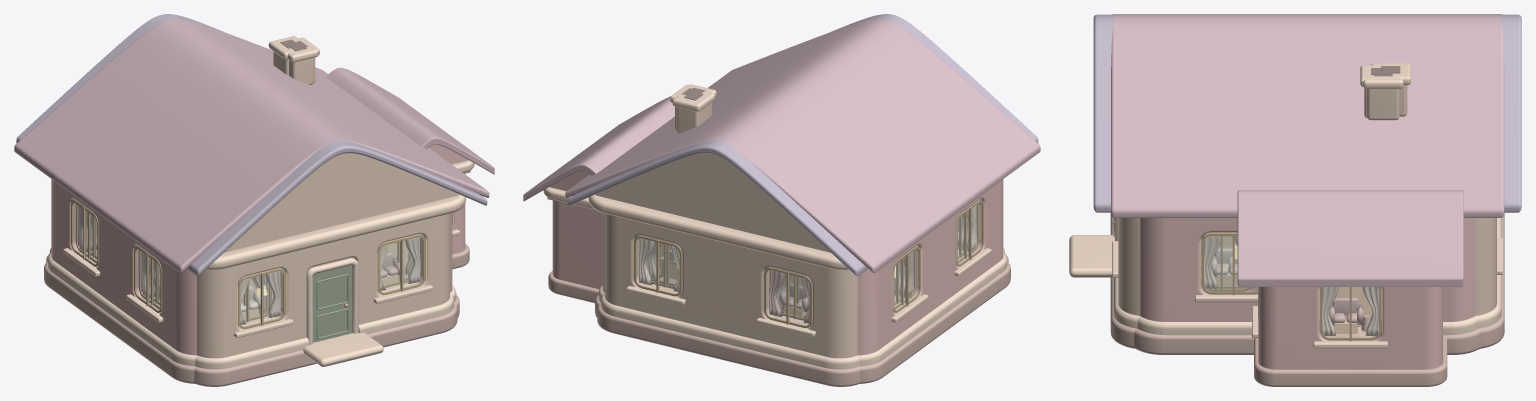
File: small-island-houses-v62.glb
The picture shows the model from 3 angles, left to right: view 1: azimuth 30°, elevation 25°; view 2: azimuth 150°, elevation 25°; view 3: azimuth 270°, elevation 25°; orthographic projection. The views are drawn at different scales.
Parts seen in each view (by area): view 1: cottage-pink__house61_roof_rose, cottage-taupe__arch59_cream, cottage-taupe__arch59_pillow_trim, cottage-pink__arch59_blush, cottage-taupe__house61_roof_lilac, cottage-annex__house61_roof_rose, cottage-taupe__room59_glass_sage, cottage-taupe__arch59_roof_stone, cottage-pink__arch59_pillow_trim, cottage-pink__arch59_roof_stone, cottage-taupe__door61_sage, cottage-pink__room59_glass_sage (+9 smaller); view 2: cottage-pink__house61_roof_rose, cottage-taupe__arch59_cream, cottage-pink__arch59_blush, cottage-taupe__arch59_pillow_trim, cottage-taupe__house61_roof_lilac, cottage-taupe__arch59_roof_stone, cottage-annex__arch59_blush, cottage-taupe__room59_glass_sage, cottage-annex__house61_roof_rose, cottage-pink__arch59_pillow_trim, cottage-pink__arch59_roof_stone, cottage-pink__room59_glass_sage (+10 smaller); view 3: cottage-pink__house61_roof_rose, cottage-annex__house61_roof_rose, cottage-annex__arch59_blush, cottage-pink__arch59_blush, cottage-taupe__house61_roof_lilac, cottage-taupe__arch59_cream, cottage-taupe__arch59_pillow_trim, cottage-annex__arch59_roof_stone, cottage-pink__arch59_pillow_trim, cottage-pink__arch59_roof_stone, cottage-annex__room59_glass_sage, cottage-pink__room59_glass_sage (+10 smaller).
Boxes of the visible parts, <box> form: cottage-pink__house61_roof_rose: <box>14,19,489,272</box>; cottage-taupe__arch59_cream: <box>91,51,458,358</box>; cottage-taupe__arch59_pillow_trim: <box>49,36,465,369</box>; cottage-pink__arch59_blush: <box>51,179,452,355</box>; cottage-taupe__house61_roof_lilac: <box>16,14,487,275</box>; cottage-annex__house61_roof_rose: <box>326,67,494,174</box>; cottage-taupe__room59_glass_sage: <box>238,235,424,329</box>; cottage-taupe__arch59_roof_stone: <box>46,254,457,386</box>; cottage-pink__arch59_pillow_trim: <box>47,37,466,366</box>; cottage-pink__arch59_roof_stone: <box>44,261,459,383</box>; cottage-taupe__door61_sage: <box>313,265,352,342</box>; cottage-pink__room59_glass_sage: <box>72,200,160,313</box>; cottage-pink__house61_roof_rose: <box>565,19,1040,272</box>; cottage-taupe__arch59_cream: <box>596,103,895,358</box>; cottage-pink__arch59_blush: <box>602,179,1003,355</box>; cottage-taupe__arch59_pillow_trim: <box>588,88,1004,369</box>; cottage-taupe__house61_roof_lilac: <box>567,14,1038,275</box>; cottage-taupe__arch59_roof_stone: <box>597,253,1008,386</box>; cottage-annex__arch59_blush: <box>547,171,976,297</box>; cottage-taupe__room59_glass_sage: <box>635,236,811,327</box>; cottage-annex__house61_roof_rose: <box>523,96,674,201</box>; cottage-pink__arch59_pillow_trim: <box>598,84,1007,366</box>; cottage-pink__arch59_roof_stone: <box>595,261,1010,383</box>; cottage-pink__room59_glass_sage: <box>895,203,981,313</box>; cottage-pink__house61_roof_rose: <box>1111,14,1504,217</box>; cottage-annex__house61_roof_rose: <box>1237,190,1463,286</box>; cottage-annex__arch59_blush: <box>1247,287,1442,369</box>; cottage-pink__arch59_blush: <box>1140,218,1474,321</box>; cottage-taupe__house61_roof_lilac: <box>1093,14,1521,212</box>; cottage-taupe__arch59_cream: <box>1118,85,1496,315</box>; cottage-taupe__arch59_pillow_trim: <box>1069,63,1502,328</box>; cottage-annex__arch59_roof_stone: <box>1254,337,1447,386</box>; cottage-pink__arch59_pillow_trim: <box>1091,77,1477,335</box>; cottage-pink__arch59_roof_stone: <box>1134,328,1480,354</box>; cottage-annex__room59_glass_sage: <box>1323,287,1381,337</box>; cottage-pink__room59_glass_sage: <box>1201,234,1257,293</box>.
Size of the model in its own units: 11.6 by 6.57 by 10.51.
